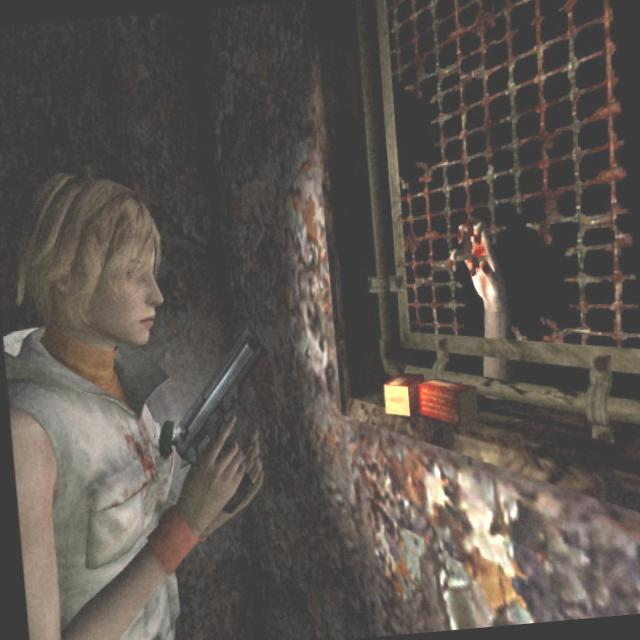handgun: (158, 332, 282, 506)
